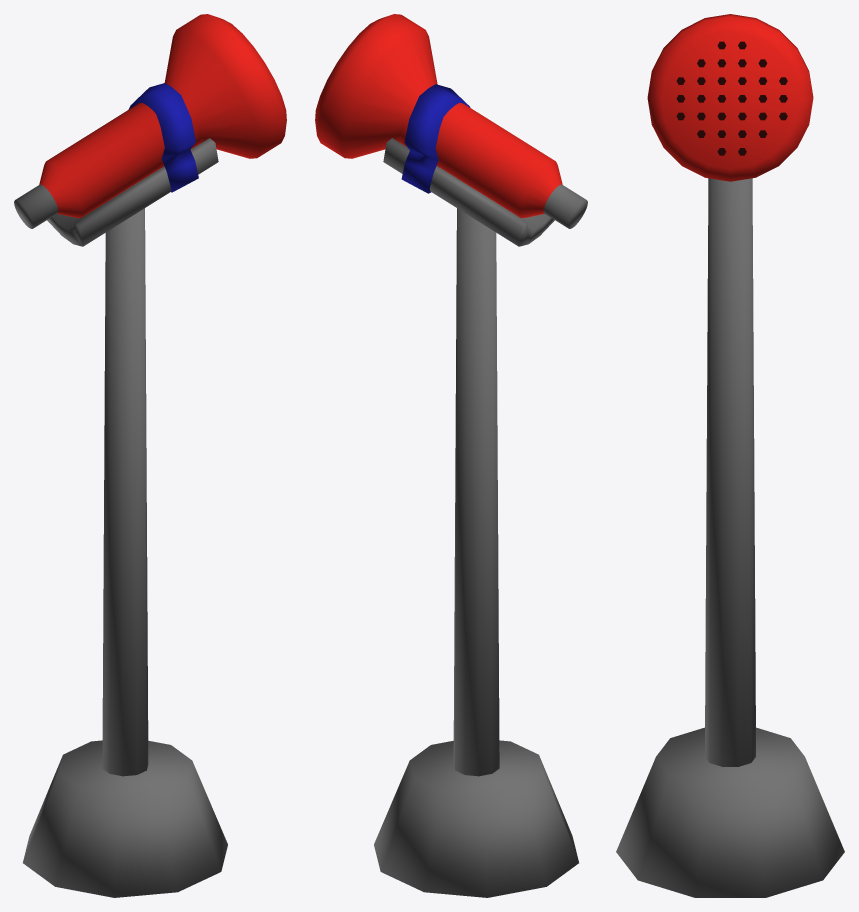
The model's file is Sprinker.fbx.
3 views of the same model, side by side, from view 1: azimuth 30°, elevation 25°; view 2: azimuth 150°, elevation 25°; view 3: azimuth 270°, elevation 25° (orthographic). The views are drawn at different scales.
Parts seen in each view (by area): view 1: SprinklerPart1Mesh, SprinklerPart2Mesh; view 2: SprinklerPart1Mesh, SprinklerPart2Mesh; view 3: SprinklerPart1Mesh, SprinklerPart2Mesh.
Part boxes in pixels (x1,y1,x2,y2): SprinklerPart1Mesh: [23, 178, 227, 897]; SprinklerPart2Mesh: [14, 14, 286, 246]; SprinklerPart1Mesh: [374, 178, 578, 897]; SprinklerPart2Mesh: [315, 14, 587, 246]; SprinklerPart1Mesh: [616, 178, 844, 897]; SprinklerPart2Mesh: [647, 14, 813, 181].
Size of the model in its own units: 0.4049 by 1.25 by 0.2942.
